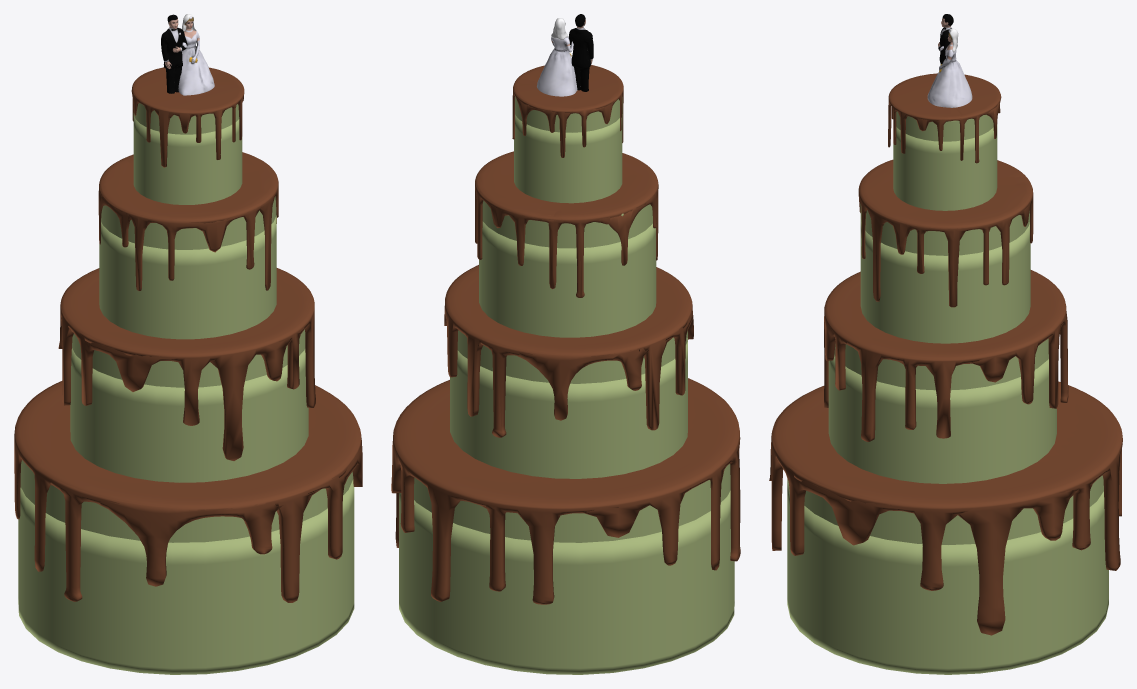
File: 4-tier-pistage-ganache-bridegroom.glb
3 views of the same model, side by side, from view 1: azimuth 30°, elevation 25°; view 2: azimuth 150°, elevation 25°; view 3: azimuth 270°, elevation 25° (orthographic).
Parts seen in each view (by area): view 1: 3.001, tHE ICING.008, 3, 2, tHE ICING.007, tHE ICING.006, 1, tHE ICING.009, 13501_Cake_Topper_Bride_Groom_v1_L1.001; view 2: 3.001, tHE ICING.008, 3, 2, tHE ICING.007, tHE ICING.006, 1, tHE ICING.009, 13501_Cake_Topper_Bride_Groom_v1_L1.001; view 3: 3.001, tHE ICING.008, 3, 2, tHE ICING.007, tHE ICING.006, 1, tHE ICING.009, 13501_Cake_Topper_Bride_Groom_v1_L1.001.
Part boxes in pixels (x1,y1,x2,y2): 3.001: (18, 460, 354, 674); tHE ICING.008: (14, 381, 362, 602); 3: (70, 329, 308, 482); 2: (99, 196, 276, 339); tHE ICING.007: (58, 268, 315, 460); tHE ICING.006: (98, 152, 278, 291); 1: (133, 103, 242, 204); tHE ICING.009: (131, 67, 244, 167); 13501_Cake_Topper_Bride_Groom_v1_L1.001: (161, 14, 214, 95); 3.001: (399, 464, 734, 674); tHE ICING.008: (391, 378, 740, 604); 3: (450, 330, 687, 478); 2: (479, 200, 656, 337); tHE ICING.007: (444, 265, 693, 437); tHE ICING.006: (475, 151, 658, 297); 1: (514, 96, 622, 203); tHE ICING.009: (512, 65, 623, 157); 13501_Cake_Topper_Bride_Groom_v1_L1.001: (537, 14, 593, 96); 3.001: (787, 475, 1108, 674); tHE ICING.008: (769, 381, 1122, 635); 3: (828, 338, 1056, 483); 2: (860, 204, 1030, 343); tHE ICING.007: (824, 270, 1068, 441); tHE ICING.006: (858, 159, 1033, 307); 1: (893, 111, 997, 210); tHE ICING.009: (888, 73, 1001, 163); 13501_Cake_Topper_Bride_Groom_v1_L1.001: (927, 14, 972, 107).
Size of the model in its own units: 4.52 by 8.54 by 4.69.
Materials: 3 (1 with a texture image).
